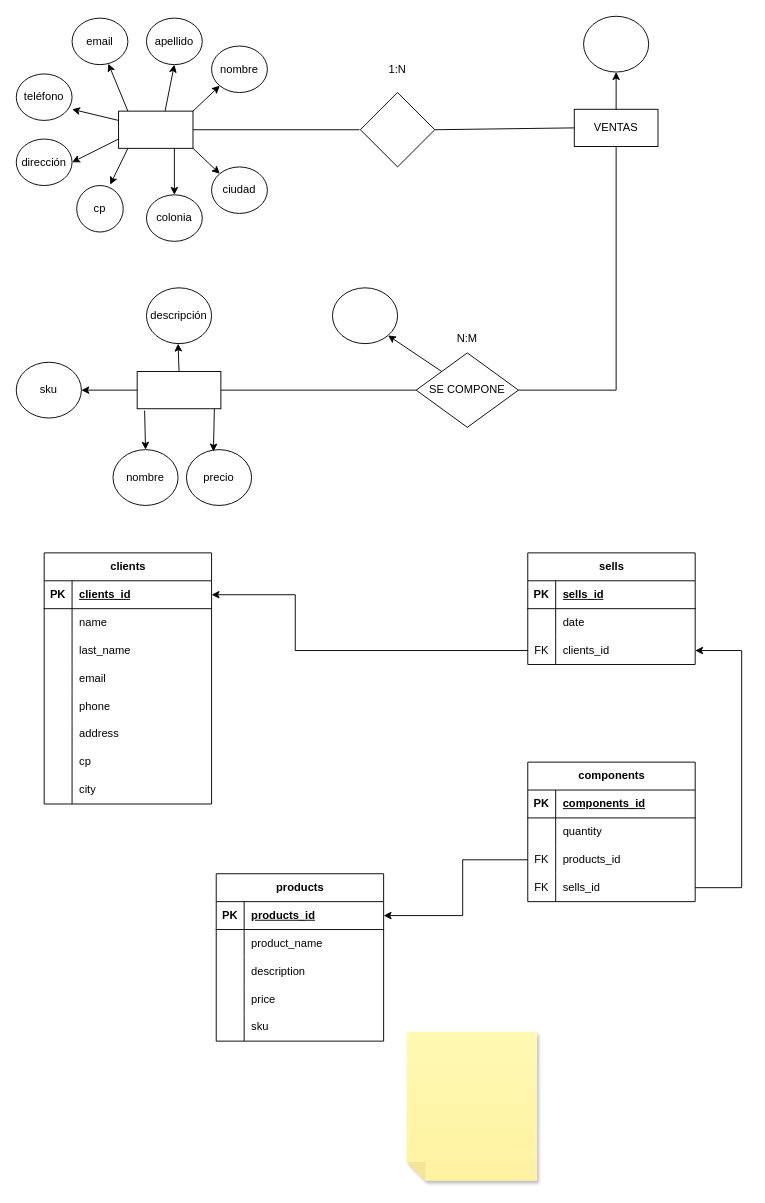
Some shapes in this 765 by 1203 pixel diagram are drawn without their labels. The centre of each missing label's shape, as x and y in pixels:
"cantidad" goes at (x=365, y=315).
"CLIENTES" goes at (x=155, y=129).
"fecha" goes at (x=616, y=43).
"PRODUCTO" goes at (x=178, y=390).
"REALIZA" goes at (x=397, y=129).
